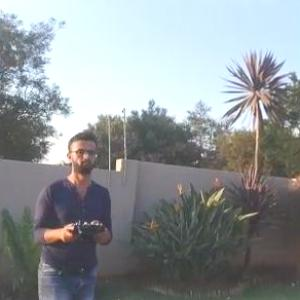follow: (25, 124, 115, 299)
